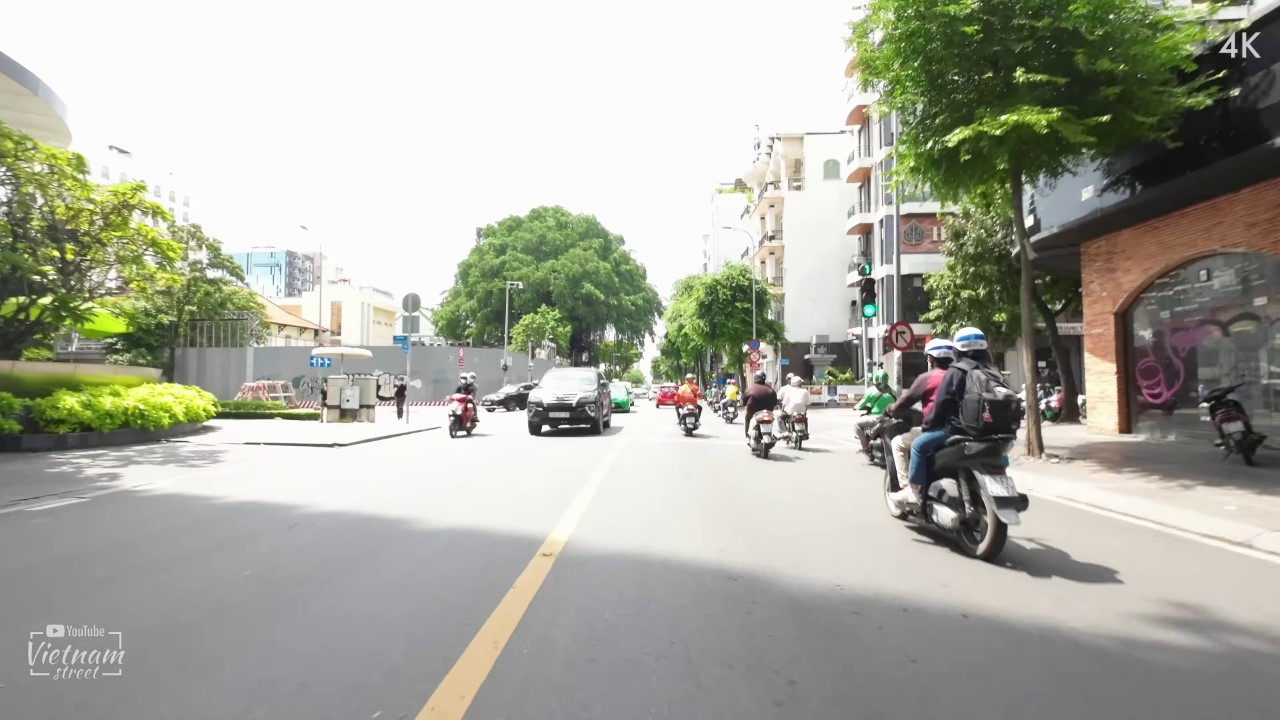cam_re_phai: (887, 319, 916, 353)
